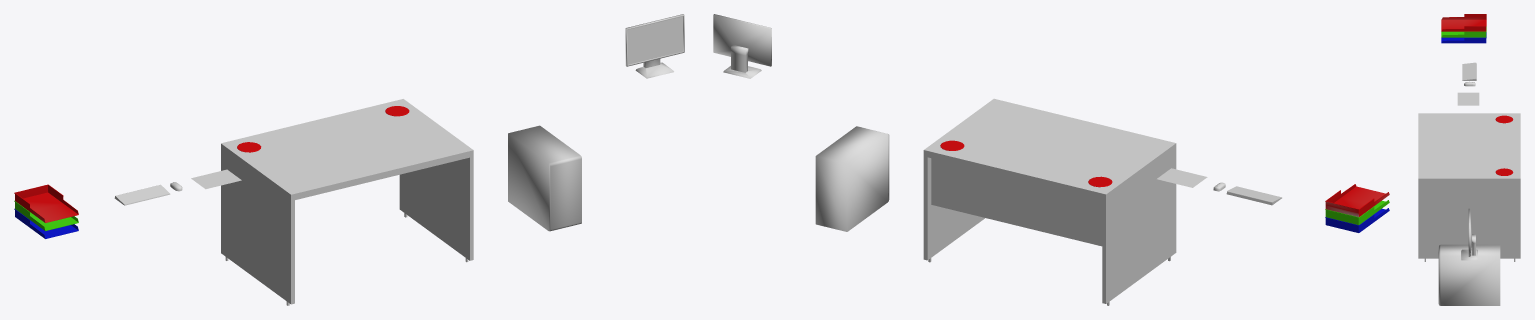
The model's file is desk_admin.fbx.
3 renders of one model, left to right at view 1: azimuth 30°, elevation 25°; view 2: azimuth 150°, elevation 25°; view 3: azimuth 270°, elevation 25°, orthographic. The views are drawn at different scales.
Visible parts, largest first — view 1: desk, desk_feet, pc_tower, Rack, screen, screen_frame, keyboard, Plane; view 2: desk_feet, desk, pc_tower, screen_frame, Rack, Plane, keyboard; view 3: desk, desk_feet, pc_tower, Rack, screen_frame, Plane, keyboard.
Boxes of the visible parts, x1,y1,x2,y2 form: desk: [221, 99, 473, 200]; desk_feet: [221, 150, 473, 305]; pc_tower: [508, 125, 581, 231]; Rack: [14, 184, 78, 238]; screen: [628, 16, 682, 64]; screen_frame: [625, 14, 684, 78]; keyboard: [114, 184, 170, 205]; Plane: [191, 169, 241, 189]; desk_feet: [923, 150, 1176, 305]; desk: [923, 98, 1176, 200]; pc_tower: [815, 126, 889, 231]; screen_frame: [713, 14, 771, 78]; Rack: [1325, 184, 1389, 232]; Plane: [1157, 168, 1207, 187]; keyboard: [1226, 186, 1281, 205]; desk: [1418, 113, 1520, 183]; desk_feet: [1418, 183, 1520, 261]; pc_tower: [1438, 244, 1500, 305]; Rack: [1441, 14, 1486, 43]; screen_frame: [1461, 208, 1477, 260]; Plane: [1457, 92, 1479, 105]; keyboard: [1462, 62, 1476, 80].
Bounding box in the file's own units: 432 × 104 × 79.96.
